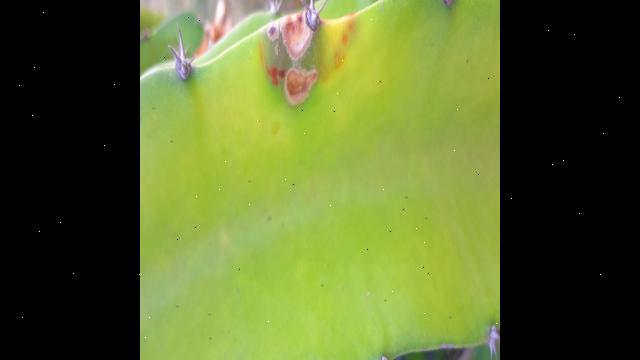stemcanker: (257, 13, 326, 111), (326, 23, 357, 81)
